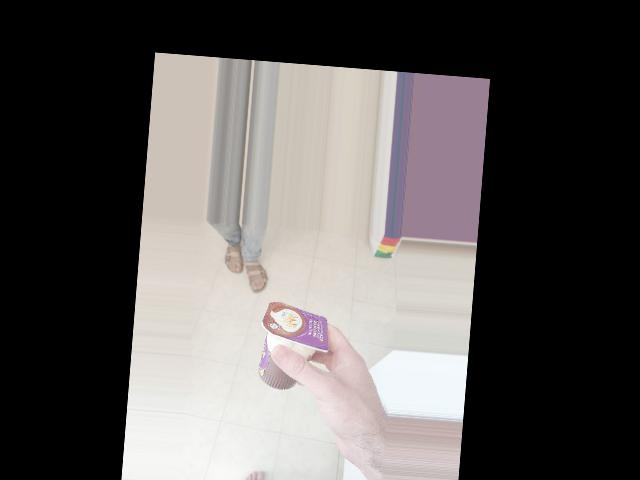milky: (226, 292, 319, 359)
